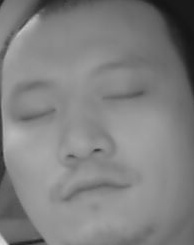blink: (103, 89, 145, 106), (20, 106, 56, 122)
mouth: (58, 177, 128, 209)
